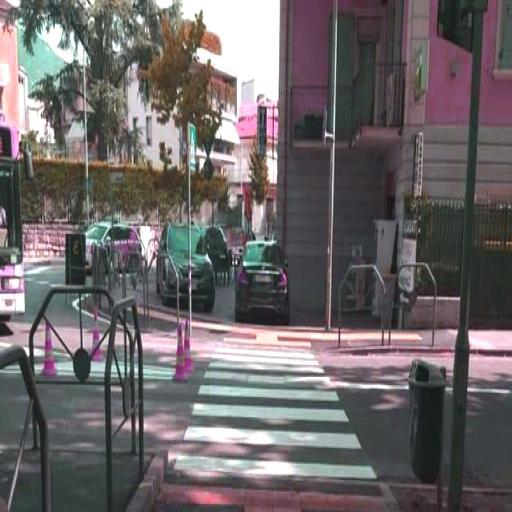crosswalk: (182, 400, 370, 452)
